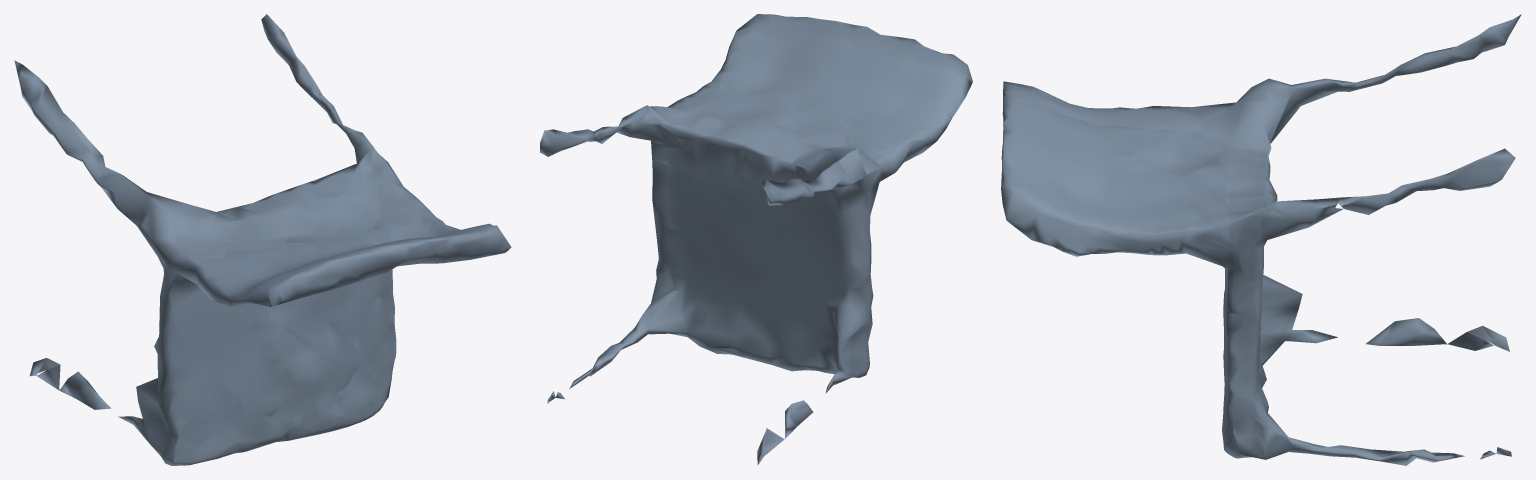
The model's file is chair_0183_recon.obj.
3 renders of one model, left to right at view 1: azimuth 30°, elevation 25°; view 2: azimuth 150°, elevation 25°; view 3: azimuth 270°, elevation 25°, orthographic. The views are drawn at different scales.
Size of the model in its own units: 0.8721 by 1.01 by 1.4.
